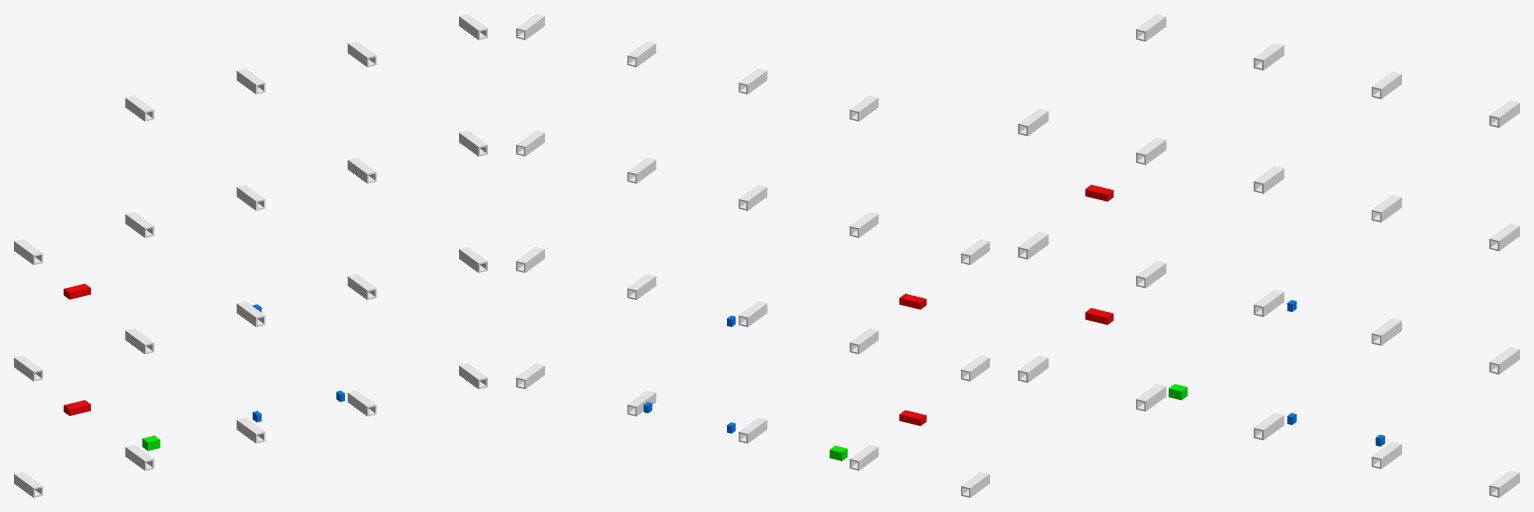
Rendered from anchor_plant_world.dae.
The picture shows the model from 3 angles, left to right: view 1: azimuth 30°, elevation 25°; view 2: azimuth 150°, elevation 25°; view 3: azimuth 330°, elevation 25°; orthographic projection. The views are drawn at different scales.
Size of the model in its own units: 49 by 37 by 3.65.
